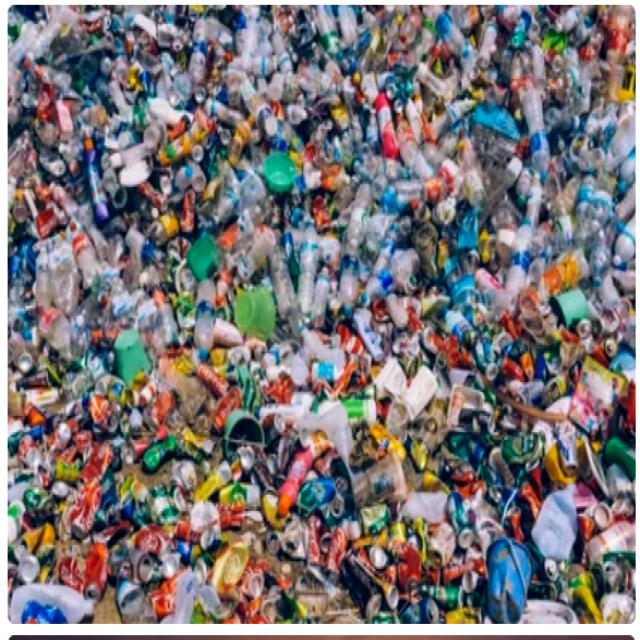Garbage: (7, 5, 634, 625)
